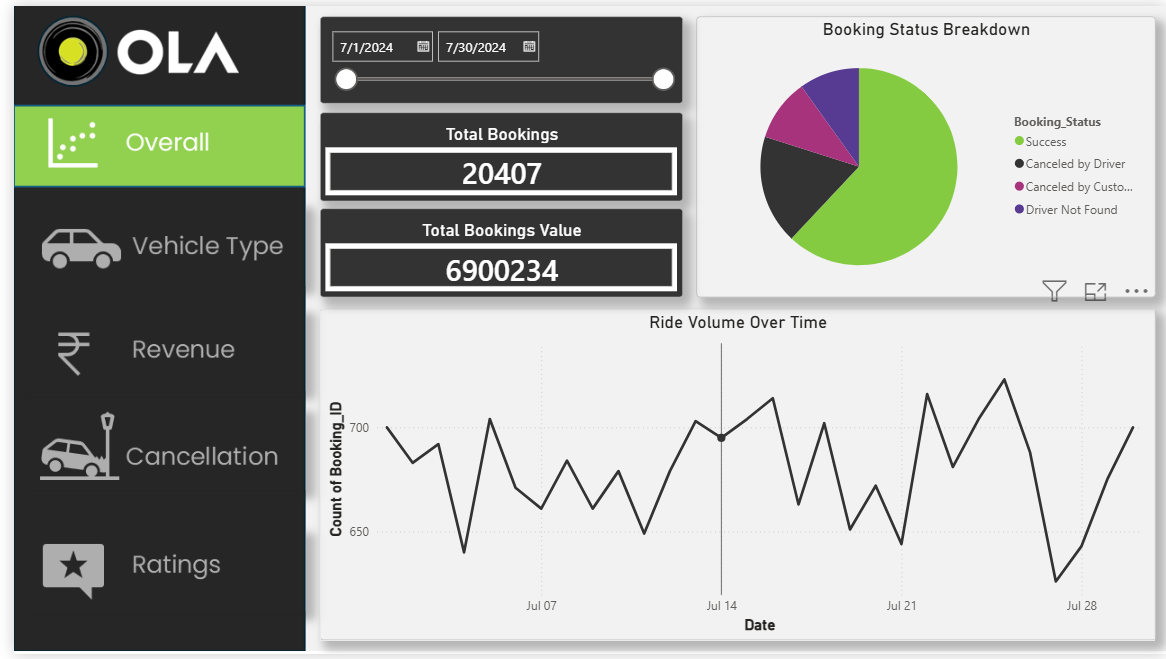

The dashboard page shown, as its layout file describes it:
{"tool":"powerbi","page":{"name":"Overall","canvas":[1280,720],"ordinal":0},"visuals":[{"type":"actionButton","box":[0,219.5,324.5,90.7],"z":0},{"type":"actionButton","box":[0,337.2,324.5,90.7],"z":1000},{"type":"actionButton","box":[0,447,324.5,90.7],"z":2000},{"type":"actionButton","box":[0,582.2,324.5,90.7],"z":3000},{"type":"lineChart","title":"Ride Volume Over Time","fields":{"Category":["Bookingscsv.Date"],"Y":["CountNonNull(Bookingscsv.Booking_ID)"]},"box":[340,336.7,928.3,368],"z":4000},{"type":"pieChart","title":"Booking Status Breakdown","fields":{"Category":["Bookingscsv.Booking_Status"],"Y":["CountNonNull(Bookingscsv.Booking_Status)"]},"box":[758.3,11.7,510,311.7],"z":5000},{"type":"slicer","fields":{"Values":["Bookingscsv.Date"]},"box":[340,11.7,403.3,96.7],"z":6000},{"type":"cardVisual","title":"Total Bookings","fields":{"Data":["CountNonNull(Bookingscsv.Booking_ID)"]},"box":[340,118.3,403.3,98.3],"z":7000},{"type":"cardVisual","title":"Total Bookings Value","fields":{"Data":["Sum(Bookingscsv.Booking_Value)"]},"box":[340,225,403.3,98.3],"z":8000}]}

Visuals, with their boxes in screenshot pixels (x1, y1, x2, y2), scaled from the page's 1280x720 canvas onto the 1166x659 screenshot:
actionButton: [0,201,296,284]
actionButton: [0,309,296,392]
actionButton: [0,409,296,492]
actionButton: [0,533,296,616]
"Ride Volume Over Time" lineChart: [310,308,1155,645]
"Booking Status Breakdown" pieChart: [691,11,1155,296]
slicer - Bookingscsv.Date: [310,11,677,99]
"Total Bookings" cardVisual: [310,108,677,198]
"Total Bookings Value" cardVisual: [310,206,677,296]
